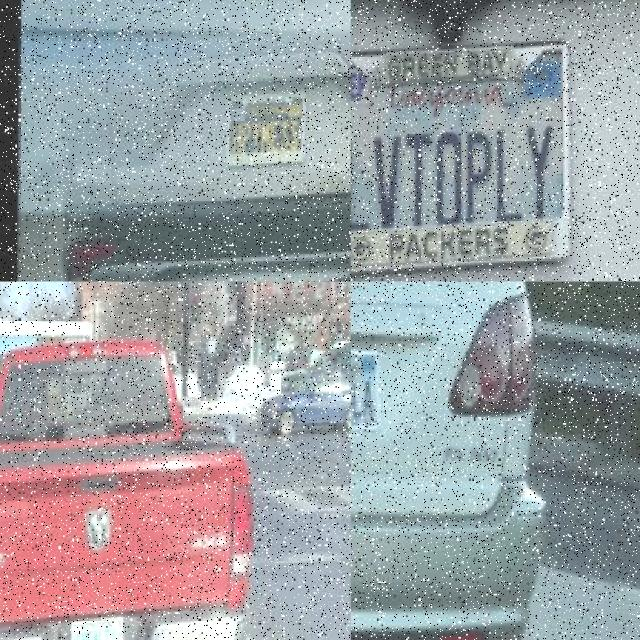licenseplate: (351, 28, 577, 282), (351, 352, 398, 443), (68, 624, 121, 640)
